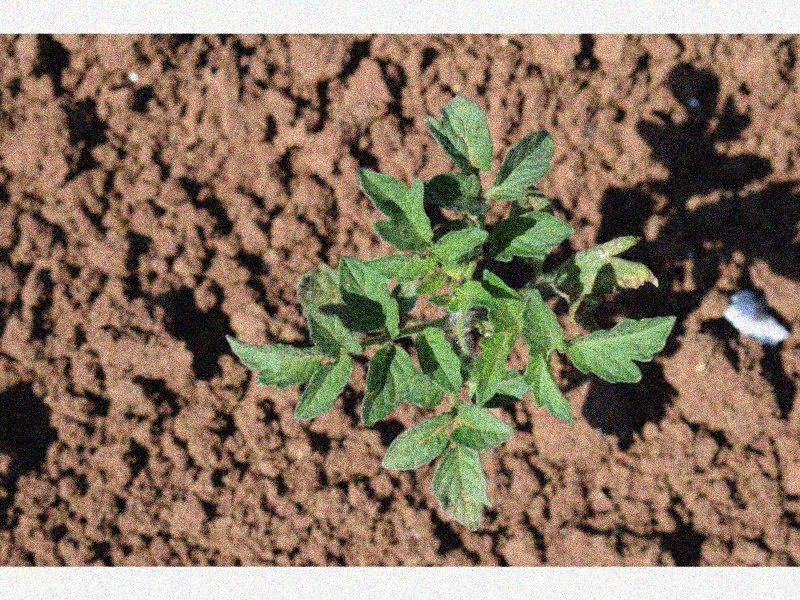tomato: (227, 90, 673, 533)
